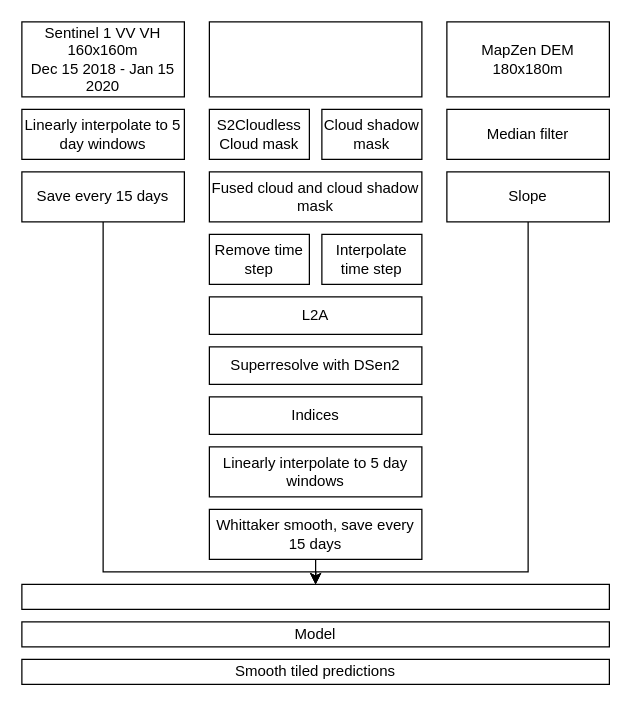
This 631x706 diagram has some shape labels left out. The centre of each missing label's shape, as x and y in pixels:
"Fuse (24, 16, 16, 17) shape" goes at (315,596).
"Sentinel 2 L1C 160x160m, 10 and 20m bands Dec 15 2018 - Jan 15 2020" goes at (315,59).
